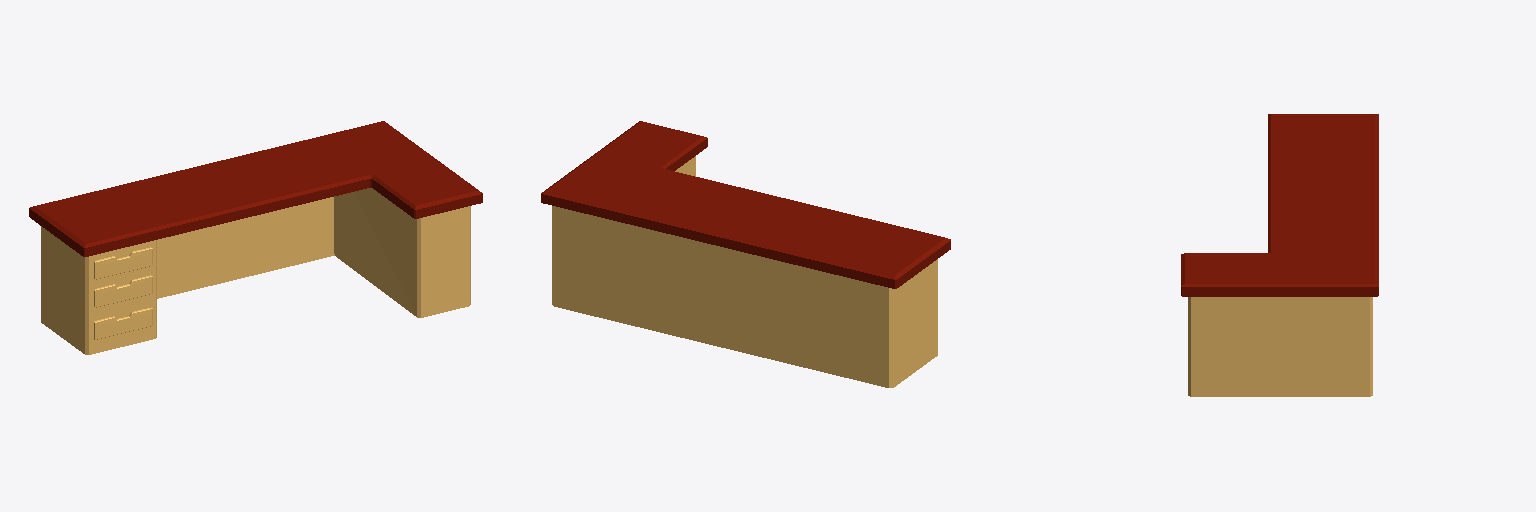
The model's file is SM_Escritorio.obj.
The picture shows the model from 3 angles: view 1: azimuth 30°, elevation 25°; view 2: azimuth 150°, elevation 25°; view 3: azimuth 270°, elevation 25°; orthographic projection.
Visible parts, largest first — view 1: Escritorio; view 2: Escritorio; view 3: Escritorio.
Boxes of the visible parts, x1,y1,x2,y2 form: Escritorio: [29, 121, 482, 354]; Escritorio: [541, 121, 950, 387]; Escritorio: [1181, 114, 1378, 396].
Size of the model in its own units: 18.09 by 5.6 by 8.76.